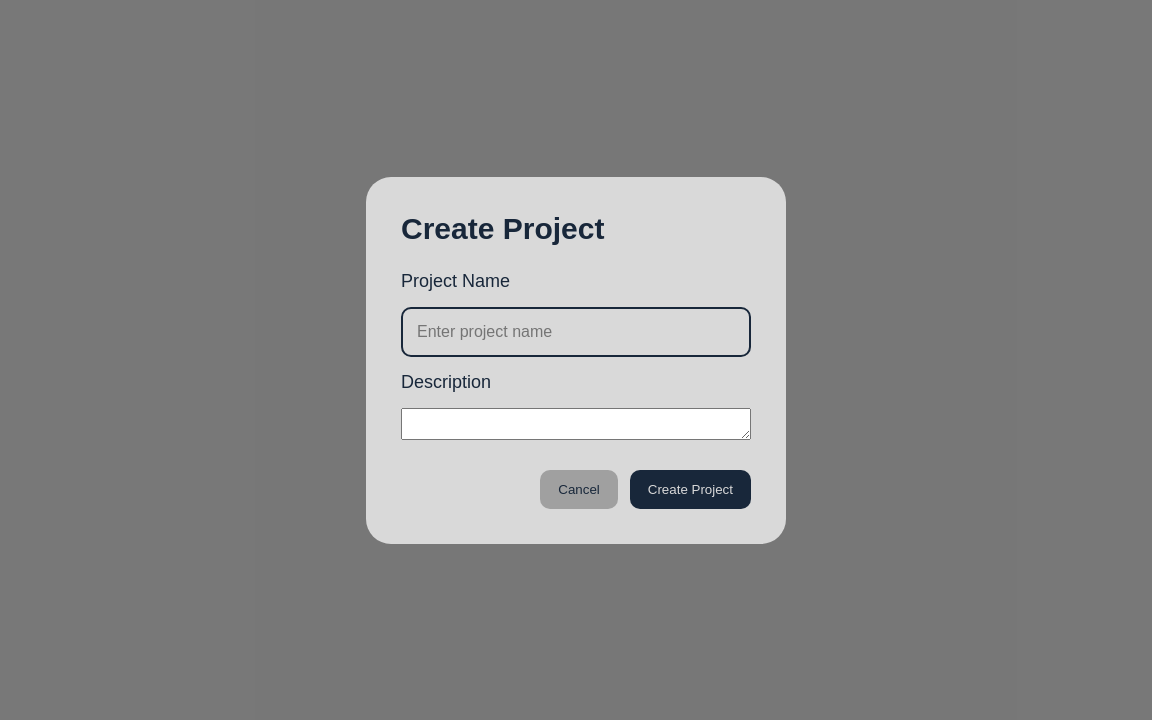
Test: CreateProjectForm › displays an error when project creation fails
Type "Quantix" into the field labelled "Project Name".
click(576, 332); type("Quantix")  # box [401,306,751,356]
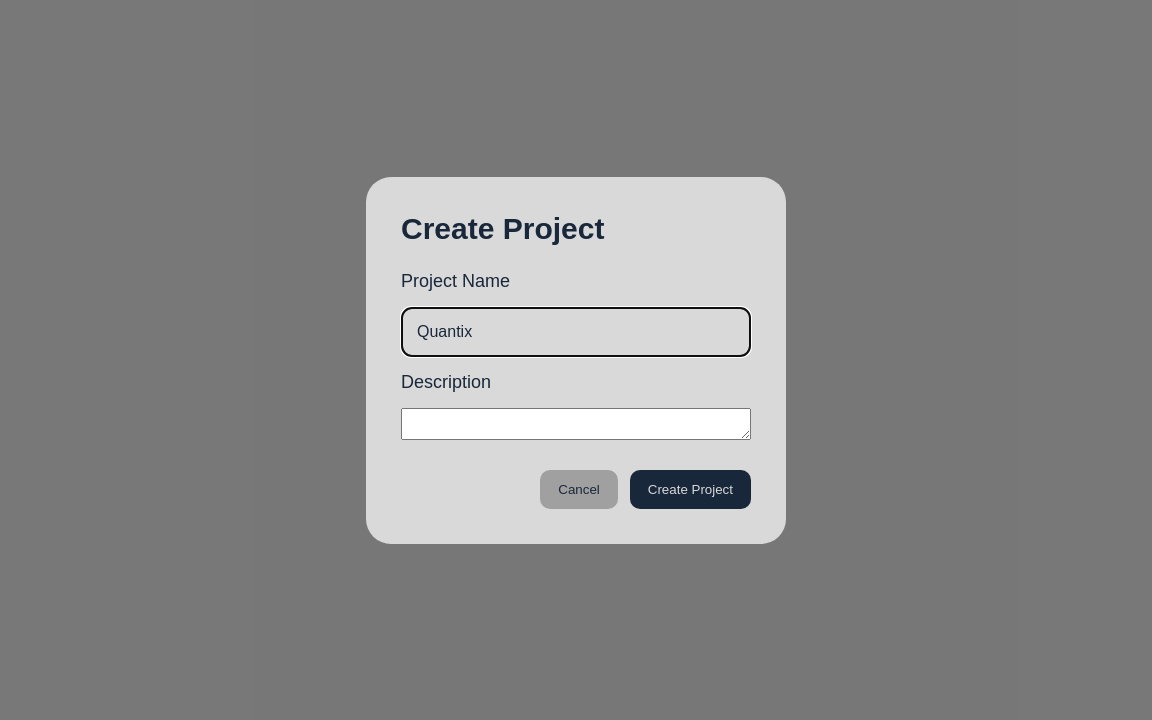
Click the button "Create Project".
click(690, 489)  # box [630,470,751,508]
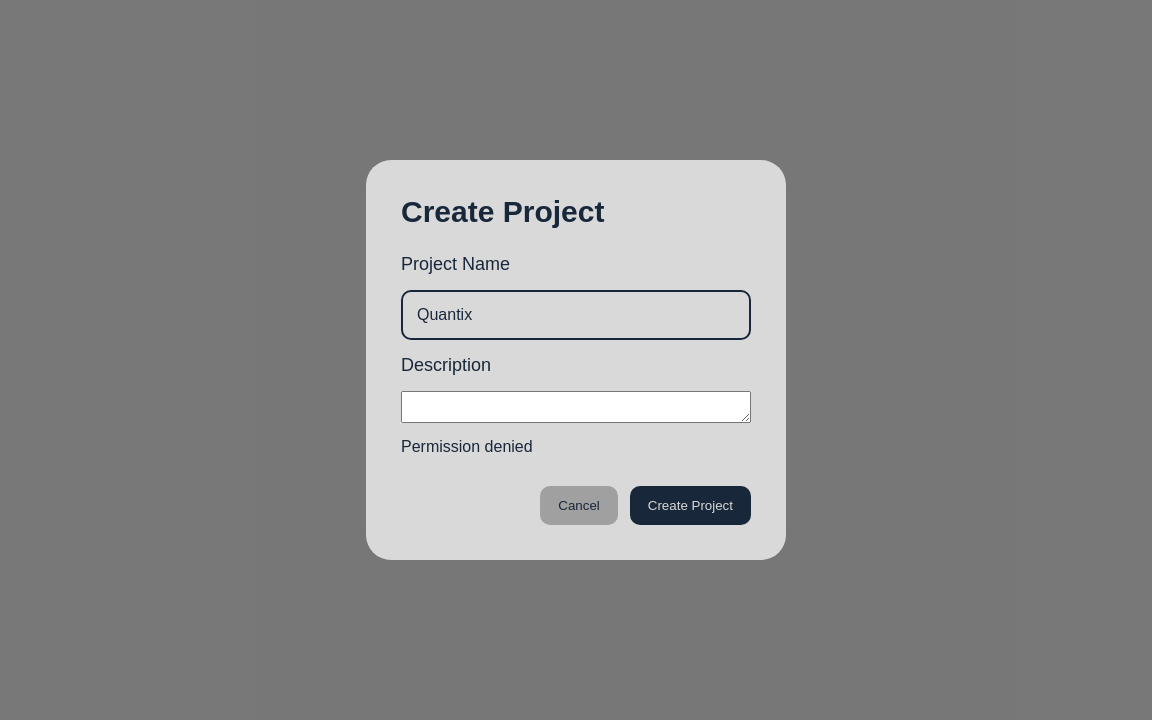
Expected: the message reads "Permission denied", [401,438,533,455]
